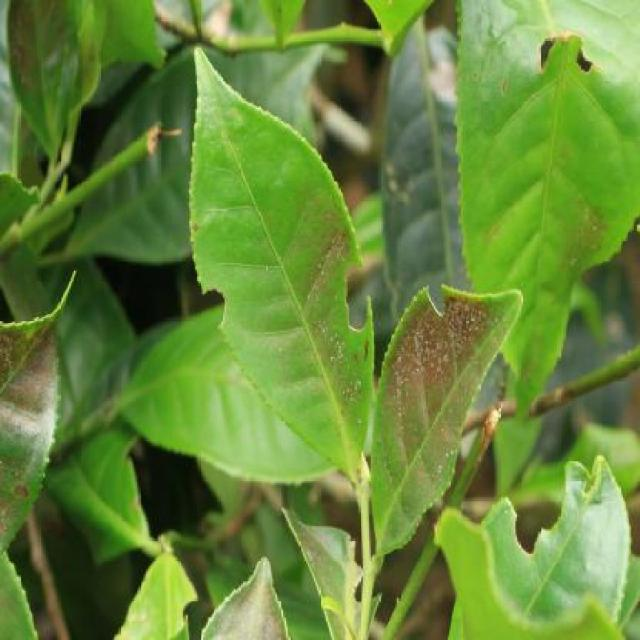Red Spider infested tea leaf: (175, 92, 371, 508), (360, 285, 517, 552)
